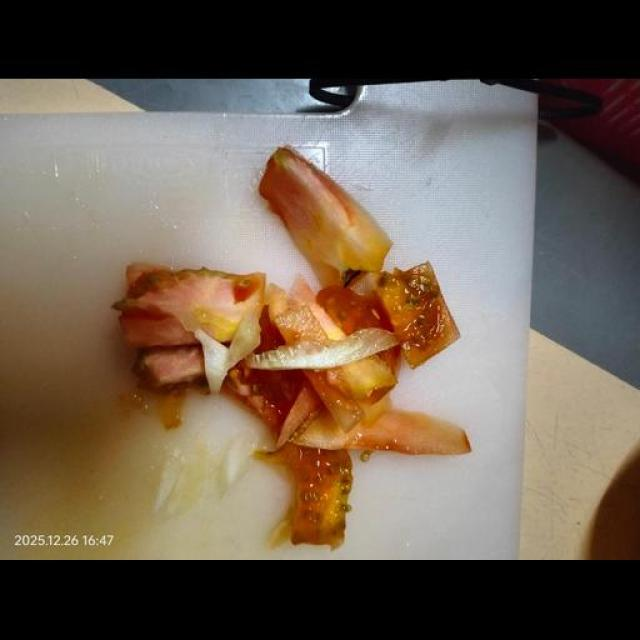organic: (140, 173, 500, 545), (547, 79, 639, 181)
